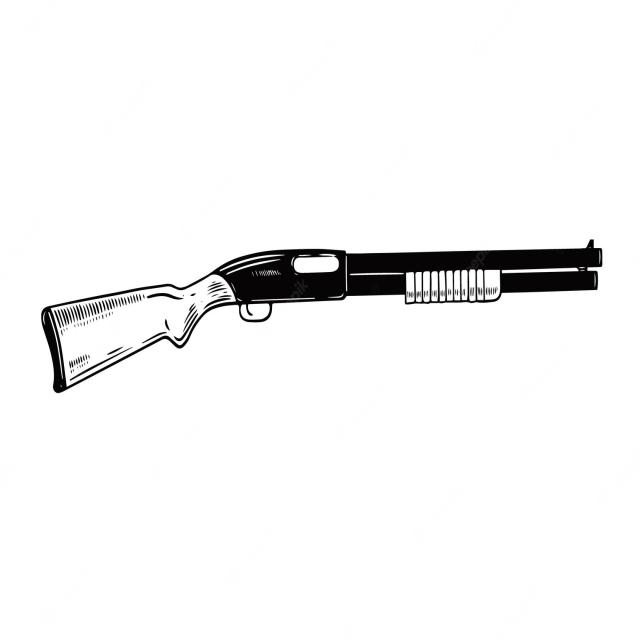ShotGun: (39, 242, 604, 395)
